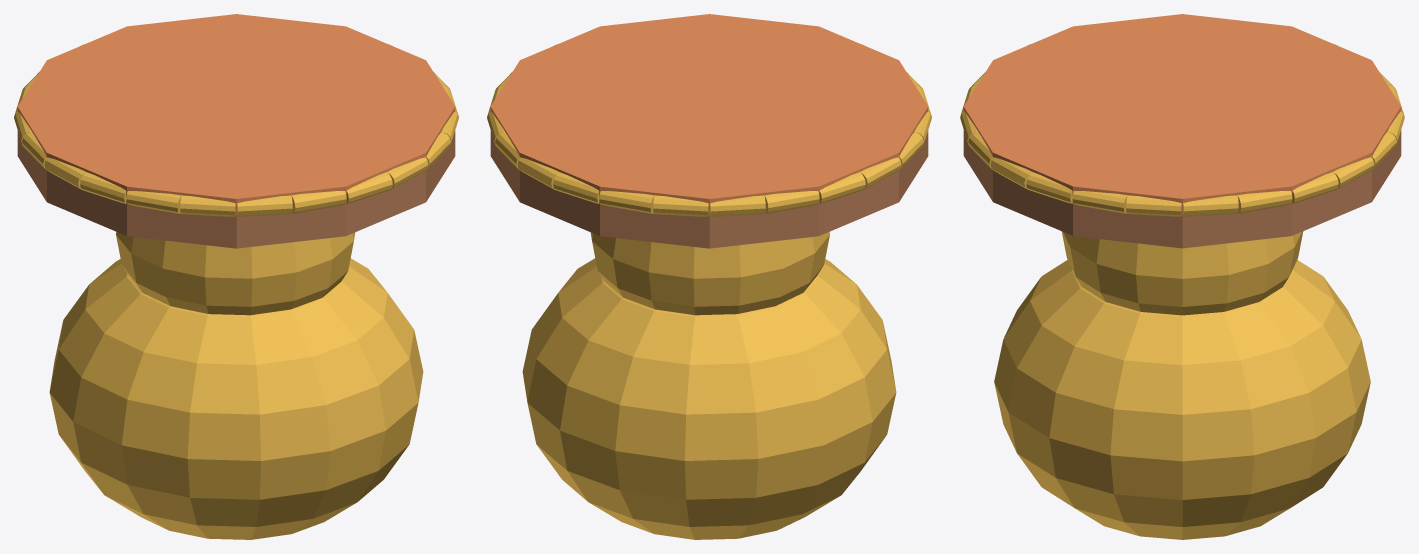
Rendered from gourd-side-table.glb.
The picture shows the model from 3 angles, left to right: view 1: azimuth 30°, elevation 25°; view 2: azimuth 150°, elevation 25°; view 3: azimuth 270°, elevation 25°; orthographic projection.
Visible parts, largest first — view 1: gourd-side-table; view 2: gourd-side-table; view 3: gourd-side-table.
Part boxes in pixels (x1,y1,x2,y2): gourd-side-table: (14,14,458,539); gourd-side-table: (487,14,931,539); gourd-side-table: (960,14,1404,539).
Size of the model in its own units: 0.7317 by 0.75 by 0.7317.
